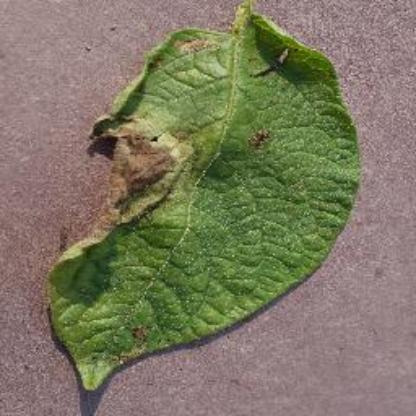Late-Blight: (38, 7, 362, 386)
